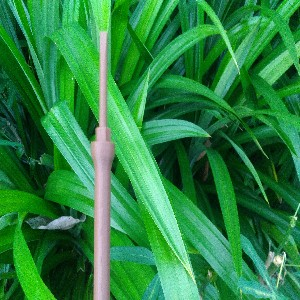obeng: (89, 29, 117, 300)
